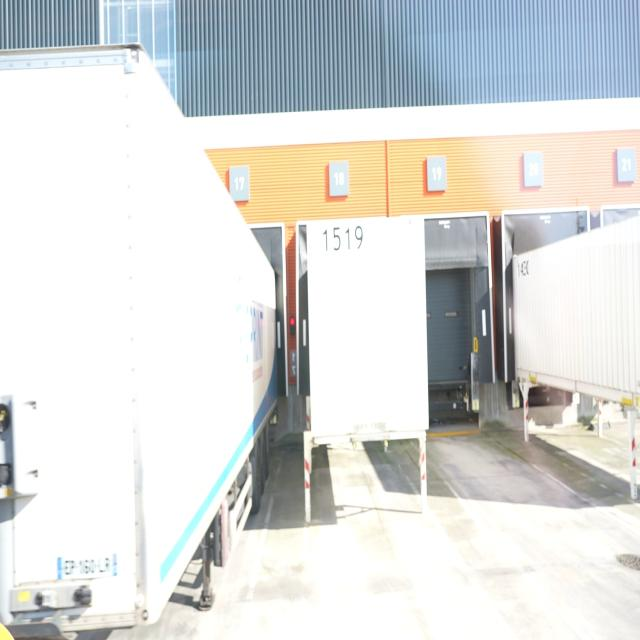Code: (321, 218, 367, 260)
